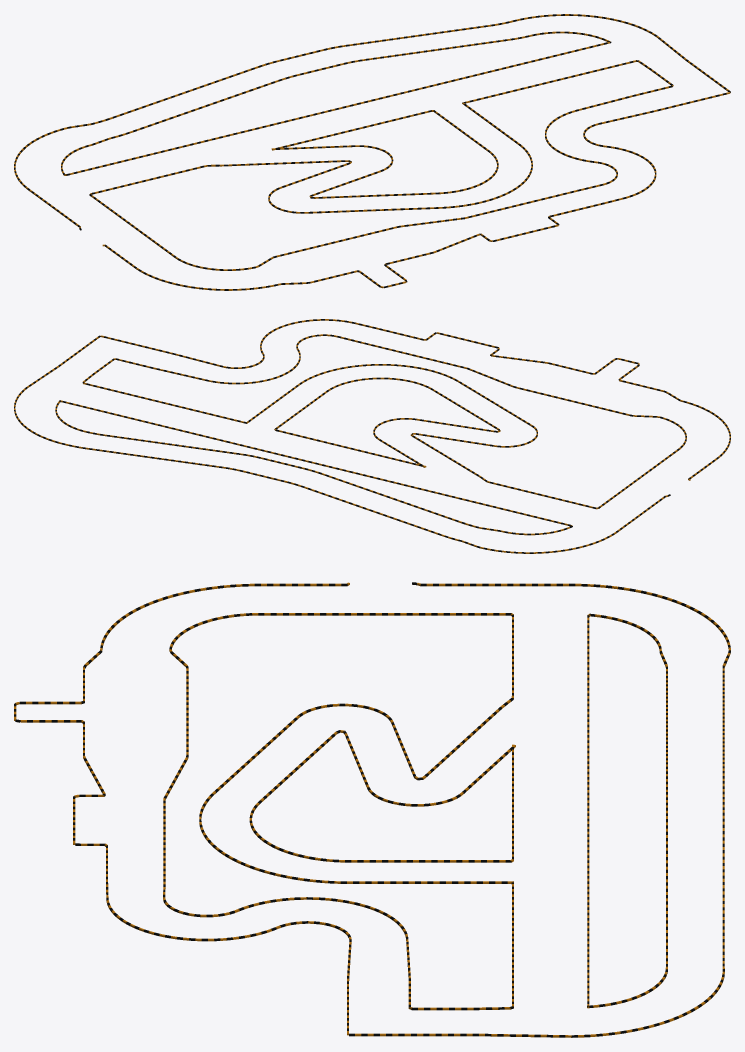
File: curbs.dae
The picture shows the model from 3 angles, top to bottom: view 1: azimuth 30°, elevation 25°; view 2: azimuth 150°, elevation 25°; view 3: azimuth 270°, elevation 25°; orthographic projection. The views are drawn at different scales.
Visible parts, largest first — view 1: curbs_0_L1, curbs_1_L1; view 2: curbs_0_L1, curbs_1_L1; view 3: curbs_0_L1, curbs_1_L1.
Boxes of the visible parts, x1,y1,x2,y2 form: curbs_0_L1: (14,14,730,290); curbs_1_L1: (271,145,393,198); curbs_0_L1: (14,319,730,553); curbs_1_L1: (373,418,500,467); curbs_0_L1: (14,582,730,1037); curbs_1_L1: (323,730,515,806).
Size of the model in its own units: 86.73 by 57.89 by 2.45.
